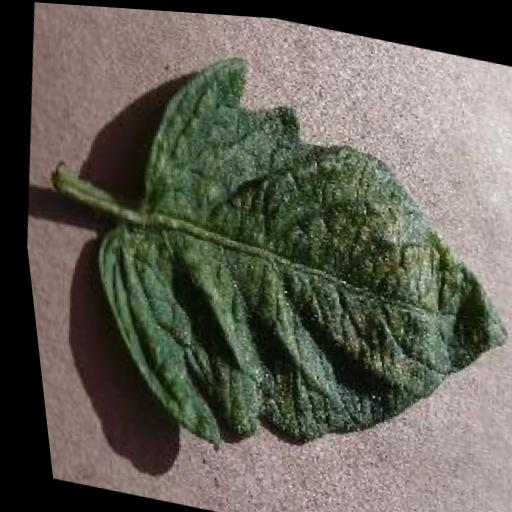Spider Mites: (50, 25, 512, 496)
